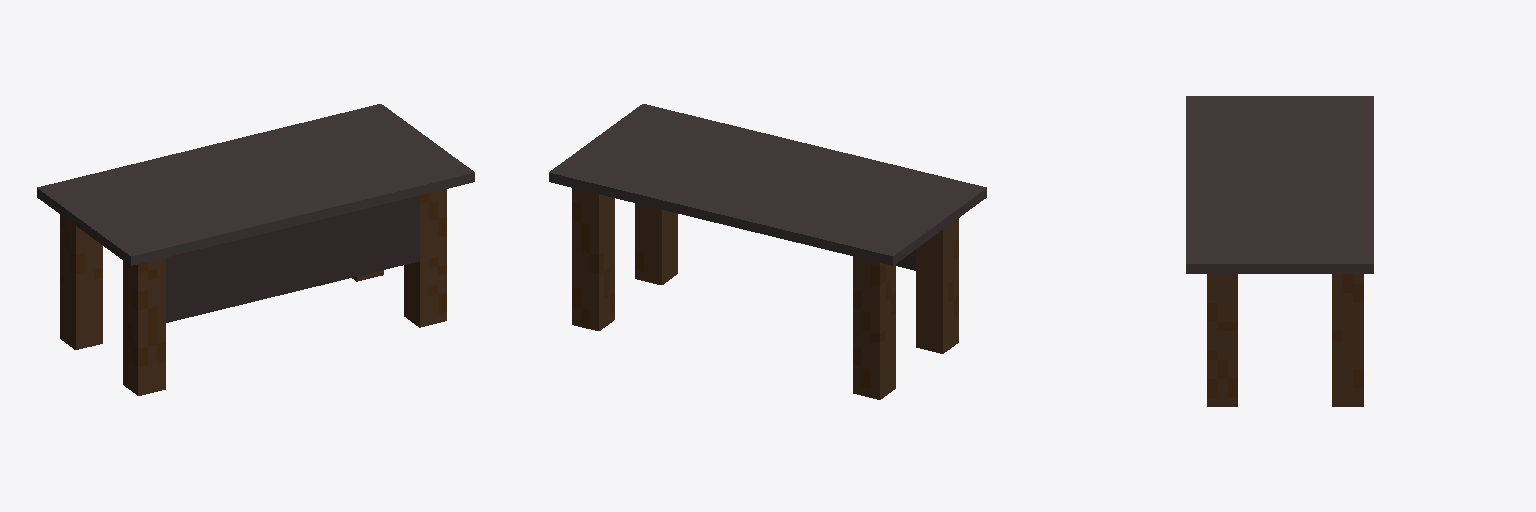
3 renders of one model, left to right at view 1: azimuth 30°, elevation 25°; view 2: azimuth 150°, elevation 25°; view 3: azimuth 270°, elevation 25°, orthographic.
Visible parts, largest first — view 1: object 1; view 2: object 1; view 3: object 1.
Part boxes in pixels (left/top/right/bottom): object 1: left=37, top=104, right=474, bottom=395; object 1: left=549, top=104, right=986, bottom=399; object 1: left=1186, top=96, right=1373, bottom=406.
Size of the model in its own units: 3.8 by 1.6 by 1.8.
1 materials, 1 textured.